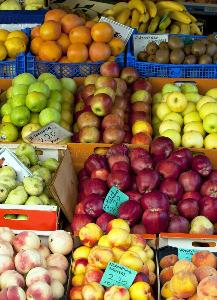apple: (84, 137, 216, 237), (0, 75, 76, 141), (151, 73, 217, 147), (82, 77, 154, 142)
banana: (81, 0, 217, 39)
kiwi: (135, 26, 217, 78)
orange: (30, 7, 124, 63)
peach: (72, 218, 151, 300), (151, 222, 217, 300), (1, 235, 80, 300)
pear: (0, 140, 74, 230)
